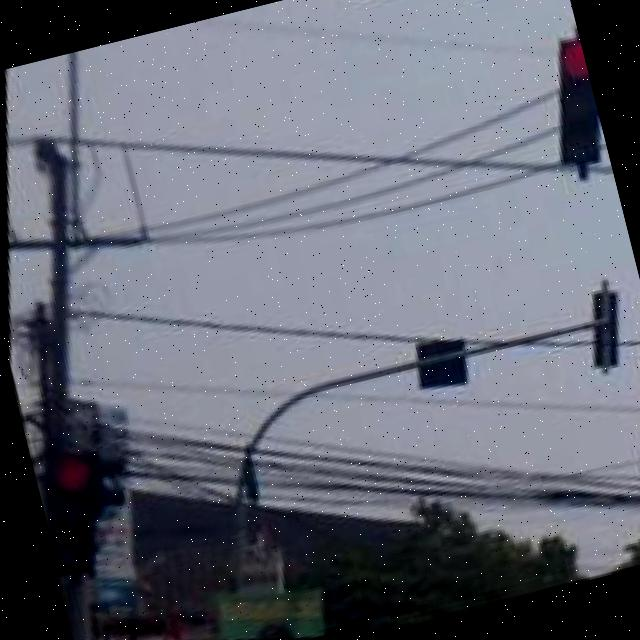red_light: (20, 390, 147, 601), (538, 15, 614, 187)
